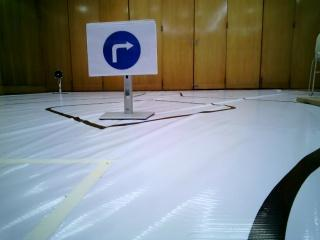right: (84, 21, 157, 69)
